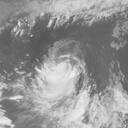cyclone: (33, 55, 83, 102)
